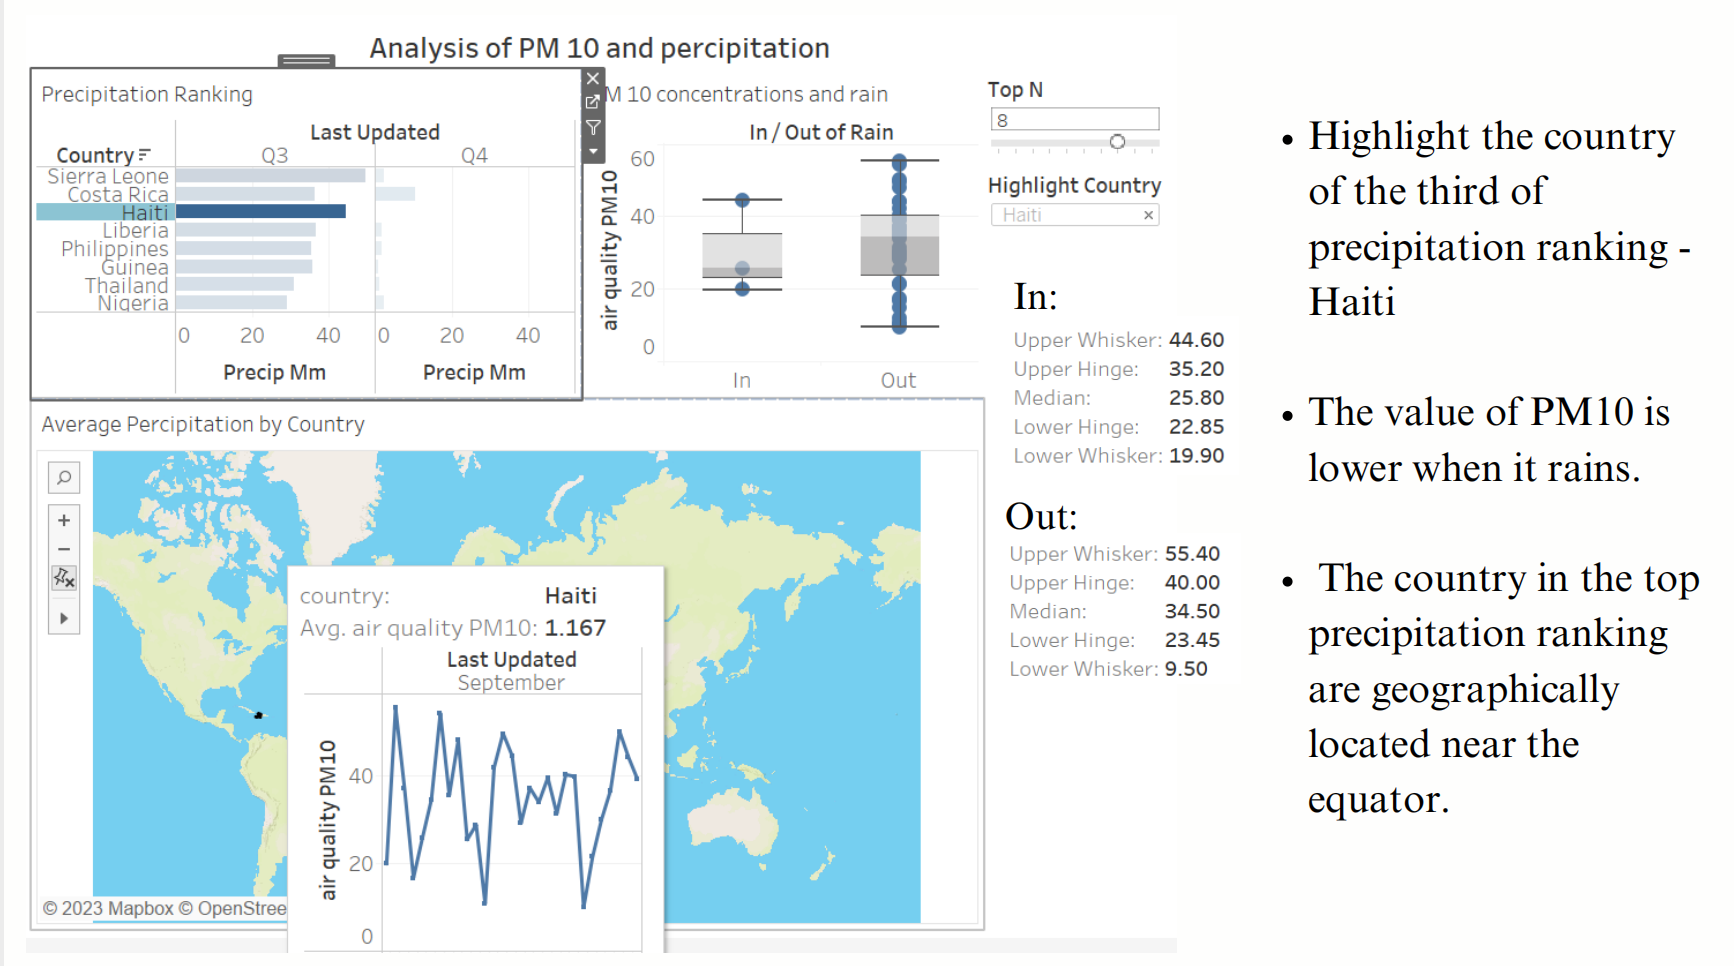

Layout of this report page (visuals, bound fields, positions):
{"tool":"tableau","page":{"name":"Analysis of PM 10 and precipitation","canvas":[1000,800],"ordinal":0},"visuals":[{"type":"title","box":[8,8,984,39]},{"type":"worksheet","title":"Precipitation Ranking","mark":"Bar","rows":["country"],"cols":["last_updated","last_updated","precip_mm"],"box":[8,47,476,285.8]},{"type":"worksheet","title":"PM 10 concentrations and rain","mark":"Circle","rows":["air_quality_PM10"],"cols":["Rain"],"box":[484,47,348,285.8]},{"type":"parameter","param":"[Parameters].[Parameter 1]","box":[832,47,160,83]},{"type":"highlighter","title":"Precipitation Ranking","param":"[federated.0kef0cc193risa12up4x704nz458].[none:country:nk]","box":[832,130,160,60]},{"type":"worksheet","title":"Average Percipitation by Country ","mark":"Multipolygon","box":[8,332.8,824,459.2]}]}

Visuals, with their boxes on the page's 1000x800 design canvas (x1, y1, x2, y2). These are canvas units, not pixel positions in the 1734x966 screenshot, which may show the page scaled, cropped or inside an application window:
title: {"x1": 8, "y1": 8, "x2": 992, "y2": 47}
"Precipitation Ranking" worksheet (Bar marks): {"x1": 8, "y1": 47, "x2": 484, "y2": 333}
"PM 10 concentrations and rain" worksheet (Circle marks): {"x1": 484, "y1": 47, "x2": 832, "y2": 333}
parameter: {"x1": 832, "y1": 47, "x2": 992, "y2": 130}
"Precipitation Ranking" highlighter: {"x1": 832, "y1": 130, "x2": 992, "y2": 190}
"Average Percipitation by Country " worksheet (Multipolygon marks): {"x1": 8, "y1": 333, "x2": 832, "y2": 792}
